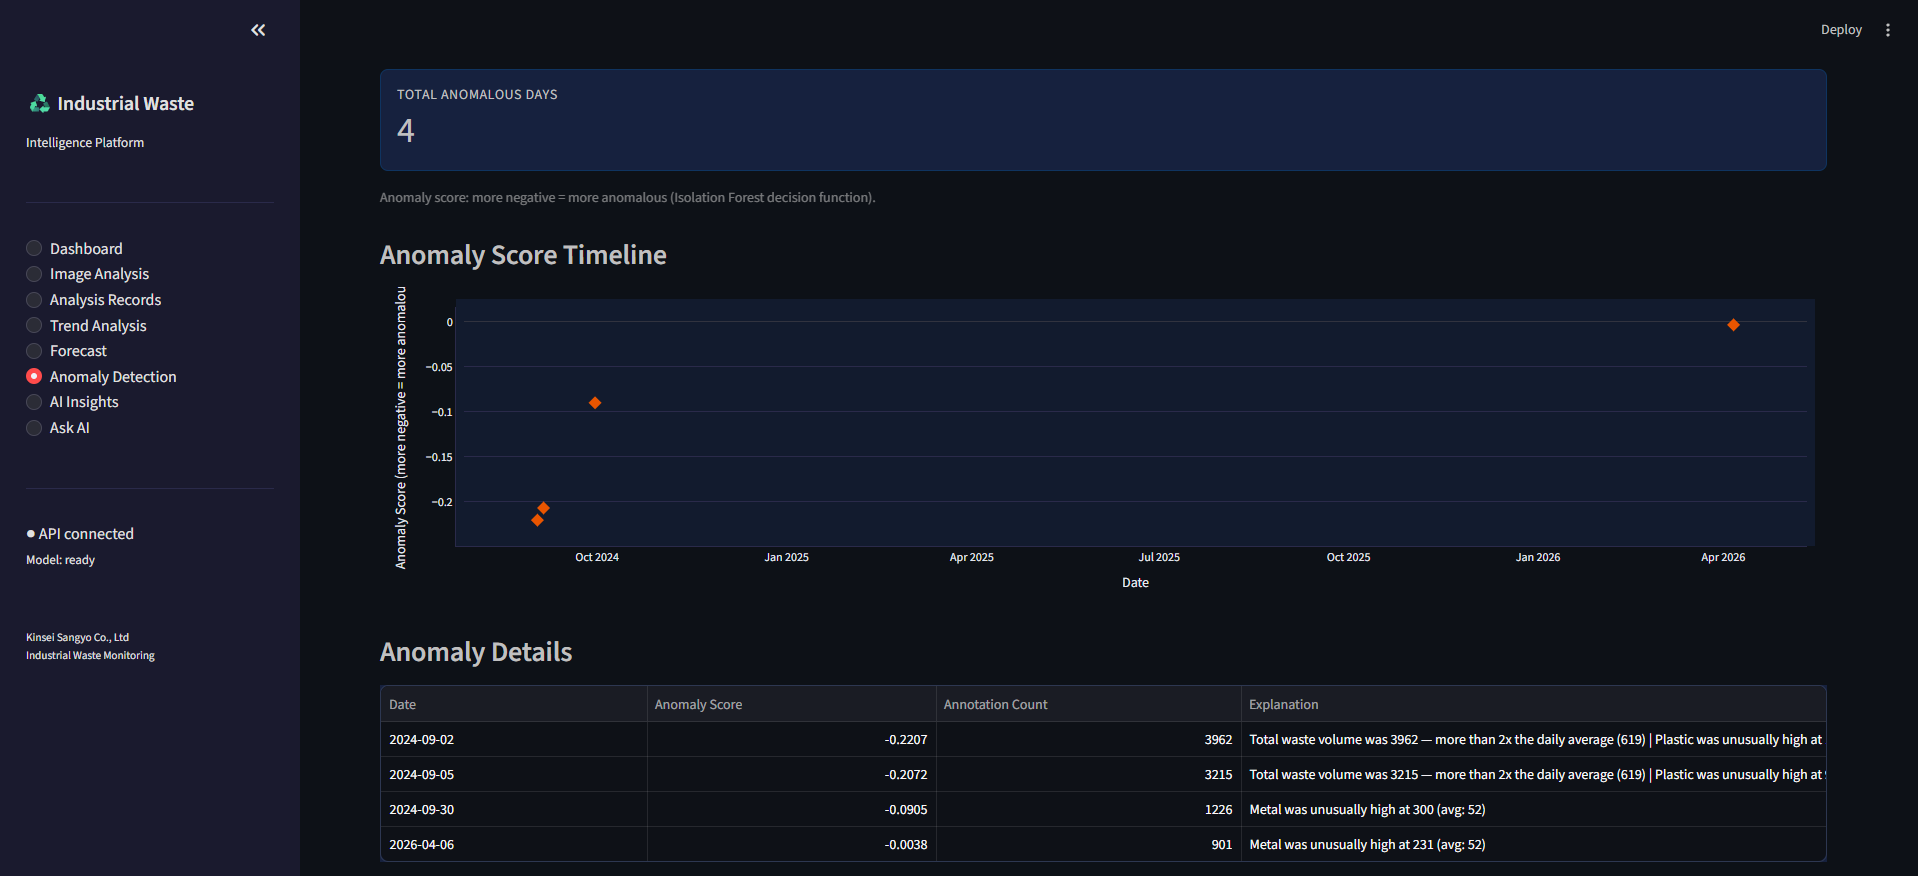

The dashboard page shown, as its layout file describes it:
{"tool":"powerbi","page":{"name":"Page 3","canvas":[1280,720],"ordinal":2},"visuals":[{"type":"scatterChart","fields":{"Y":["Sum(anomaly_results.anomaly_score)"],"X":["anomaly_results.date"]},"box":[0,0,1280,498.3],"z":0},{"type":"card","fields":{"Values":["CountNonNull(anomaly_results.is_anomaly)"]},"box":[0,498.3,733.3,221.7],"z":1000},{"type":"tableEx","fields":{"Values":["anomaly_results.date","Sum(anomaly_results.anomaly_score)"]},"box":[733.3,498.3,546.7,221.7],"z":2000},{"type":"actionButton","box":[0,680,100,40],"z":3000}]}

Visuals, with their boxes on the page's 1280x720 design canvas (x1, y1, x2, y2). These are canvas units, not pixel positions in the 1918x876 screenshot, which may show the page scaled, cropped or inside an application window:
scatterChart - Sum(anomaly_results.anomaly_score) x anomaly_results.date: box=[0, 0, 1280, 498]
card - CountNonNull(anomaly_results.is_anomaly): box=[0, 498, 733, 720]
tableEx - anomaly_results.date x Sum(anomaly_results.anomaly_score): box=[733, 498, 1280, 720]
actionButton: box=[0, 680, 100, 720]
